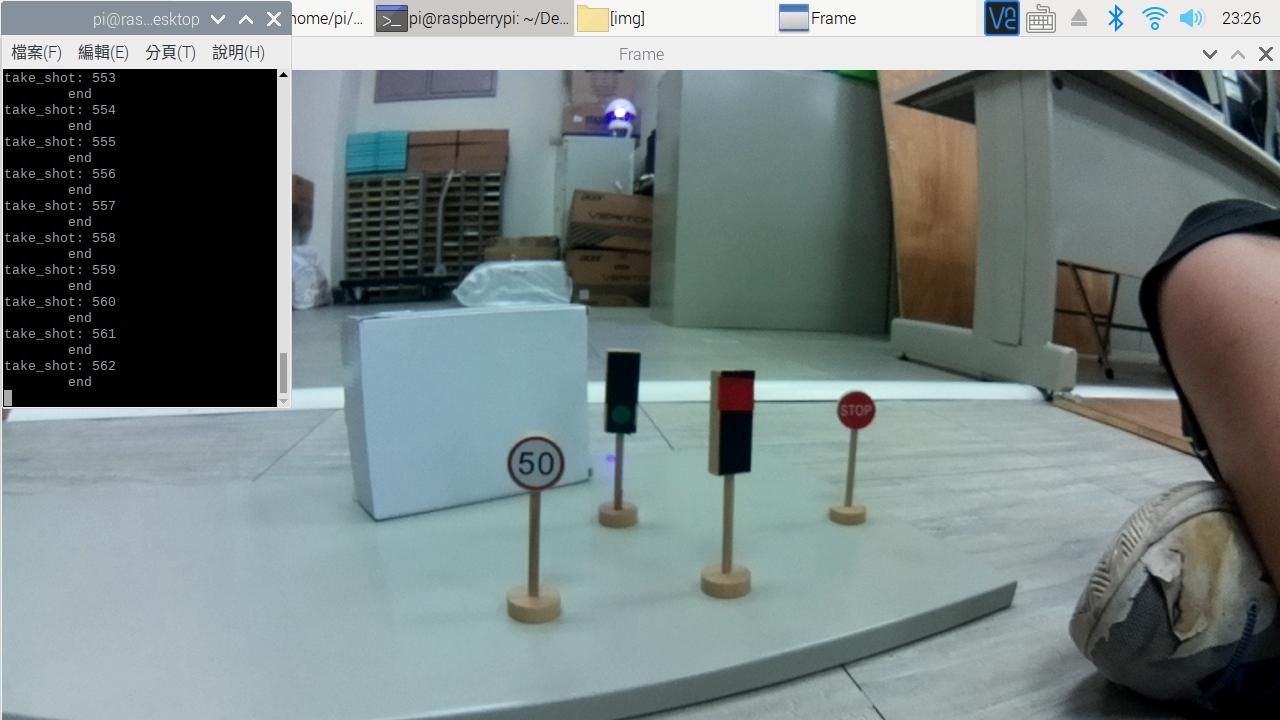Green: (601, 346, 650, 444)
Red: (699, 355, 766, 485)
Speed50: (501, 430, 573, 496)
Stop: (830, 387, 886, 442)
